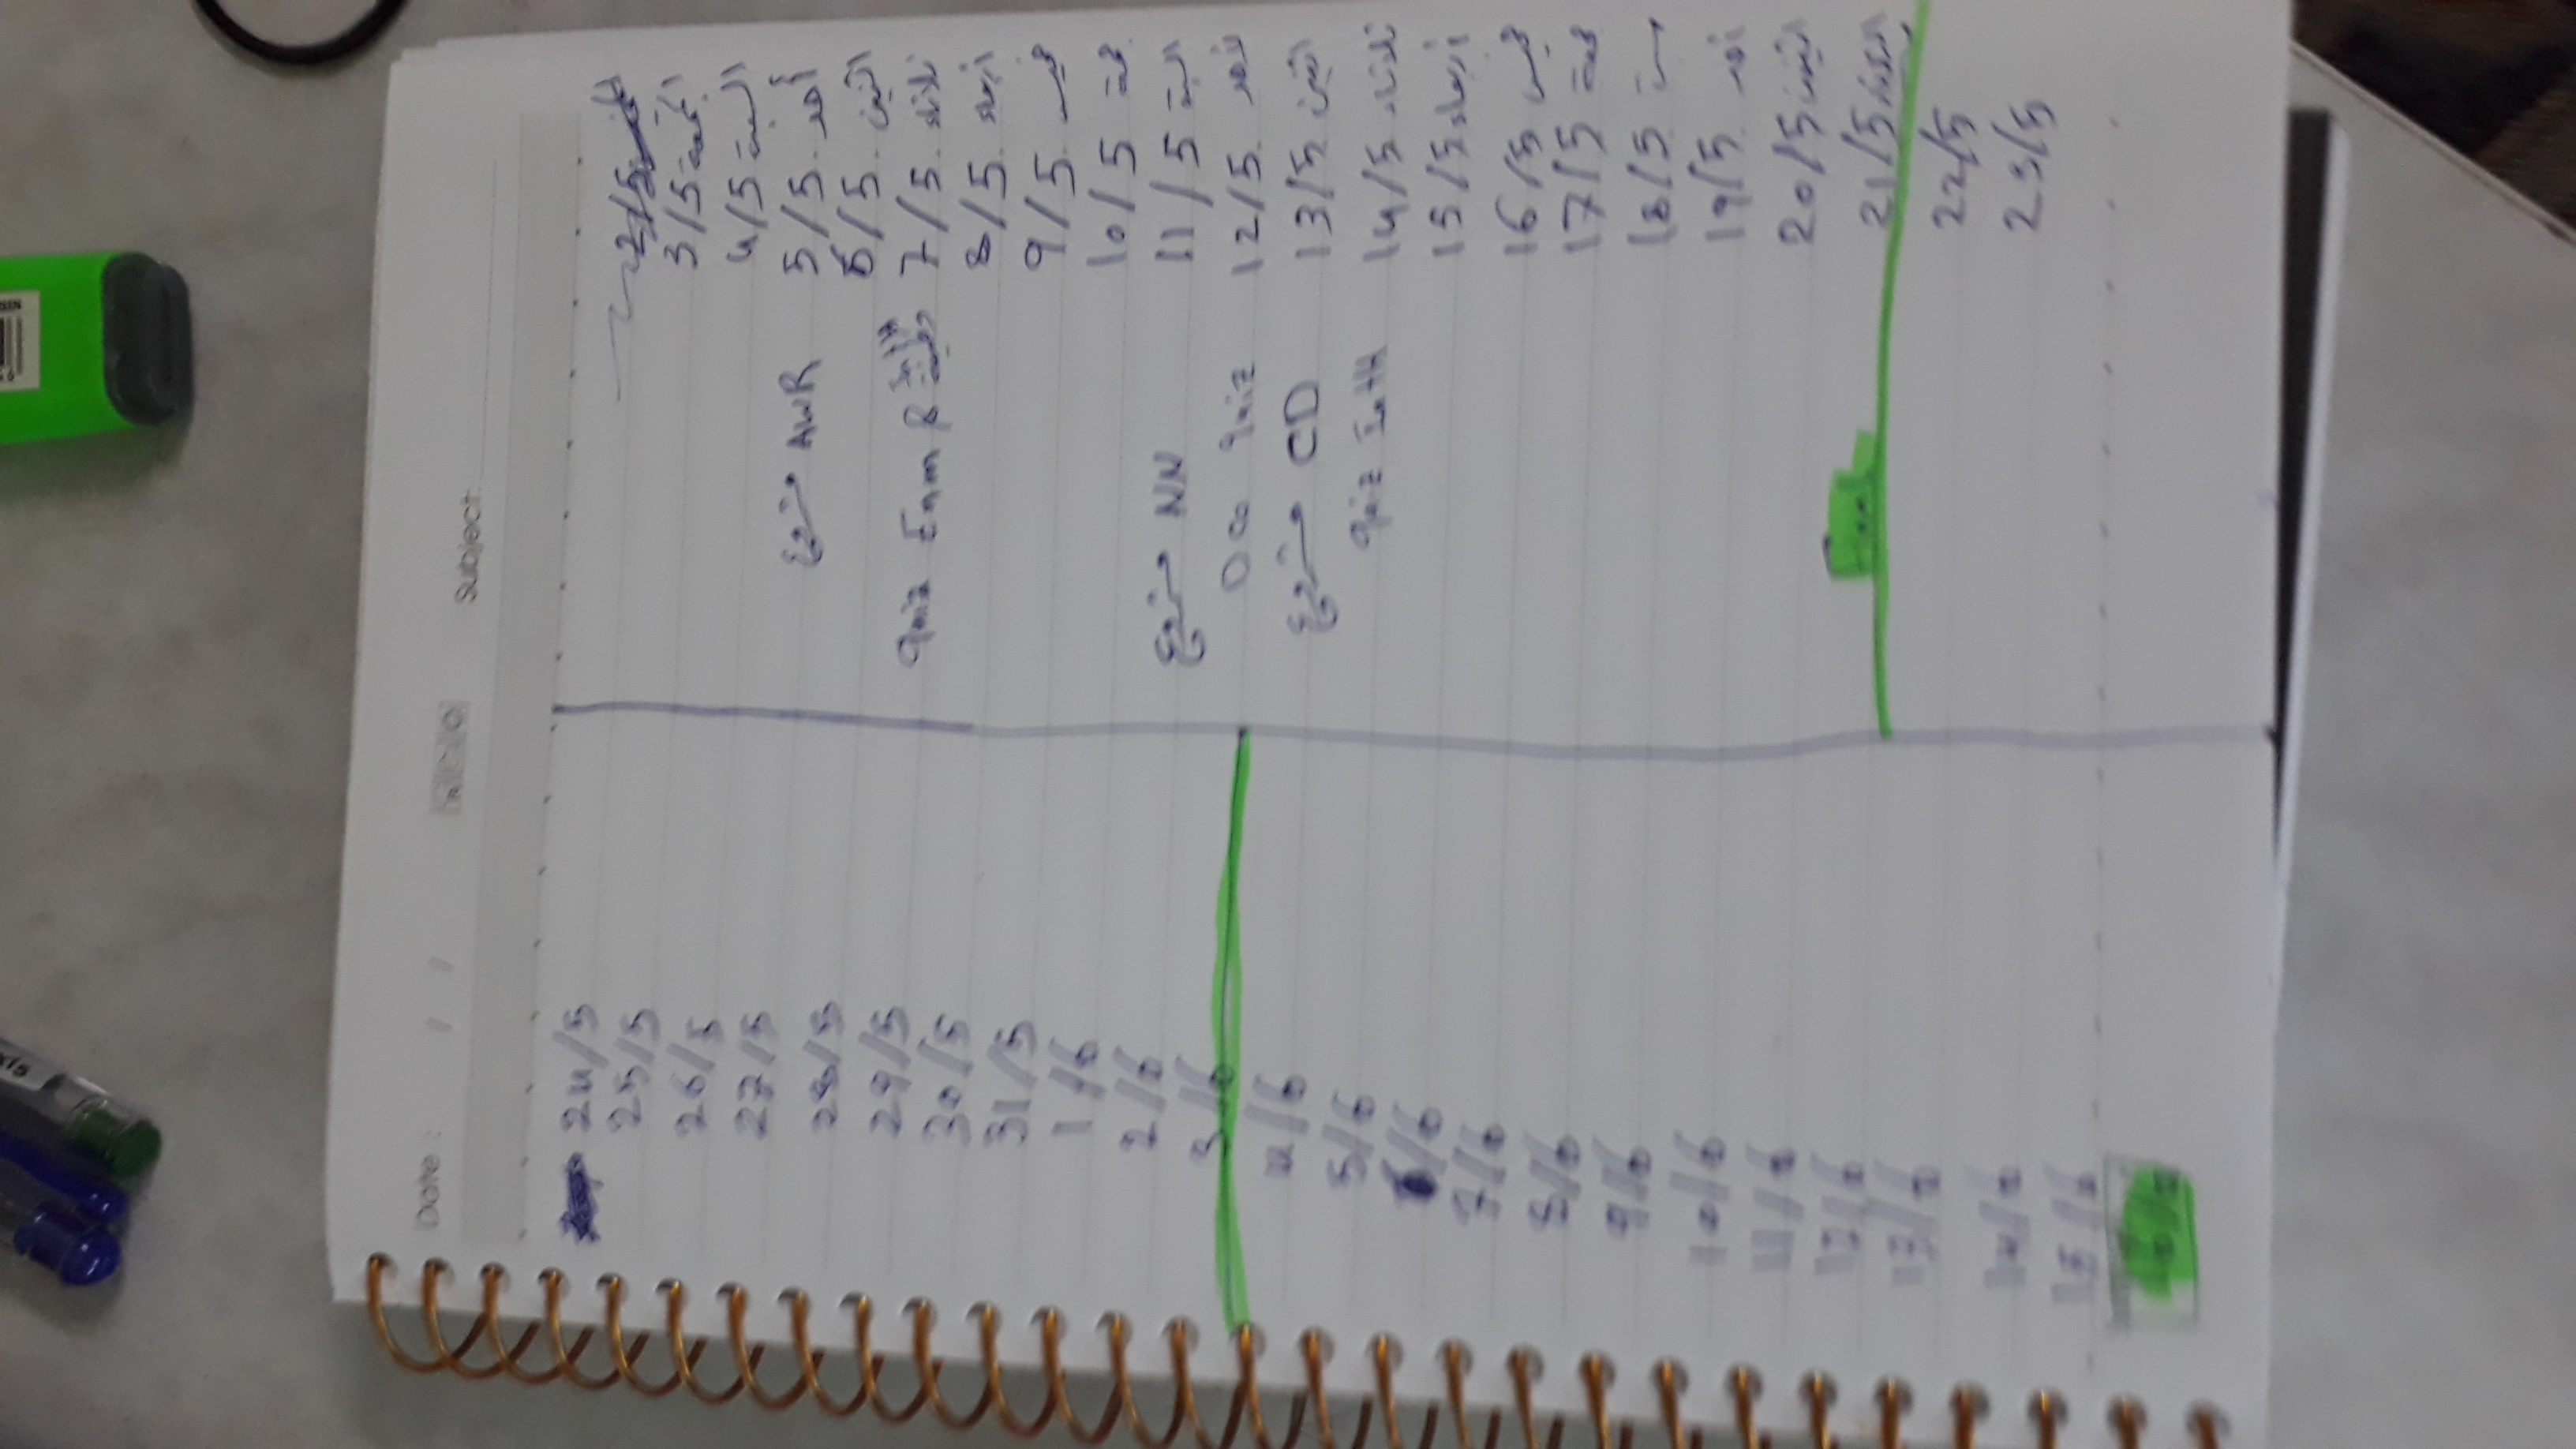dftar: (329, 16, 2396, 1449)
